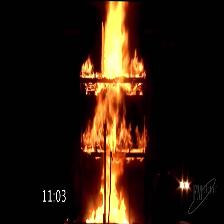fire: (80, 4, 154, 222)
